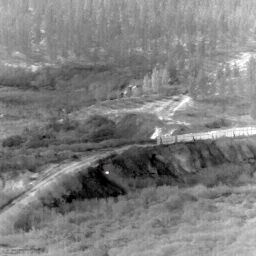Target: (104, 170, 110, 176)
